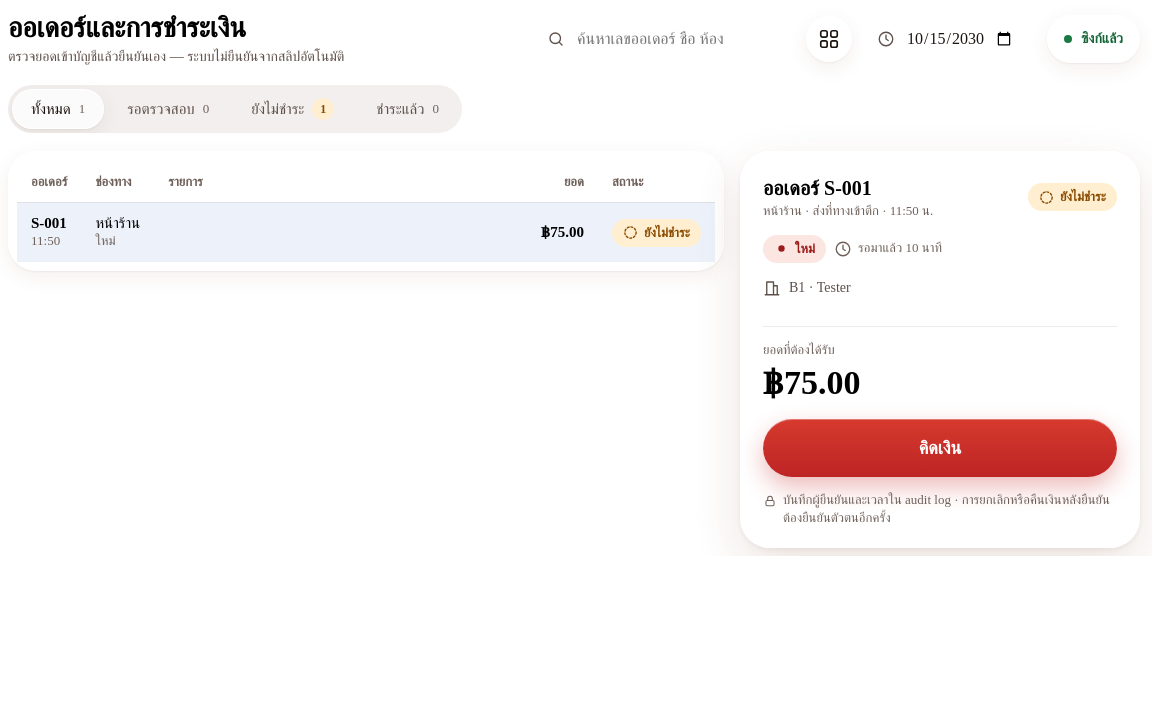
it: the orders table (iPad and laptop) › a group with no orders says so
Click the radio button labelled "ชำระแล้ว 0": (408, 109) x1=376 y1=101 x2=439 y2=117
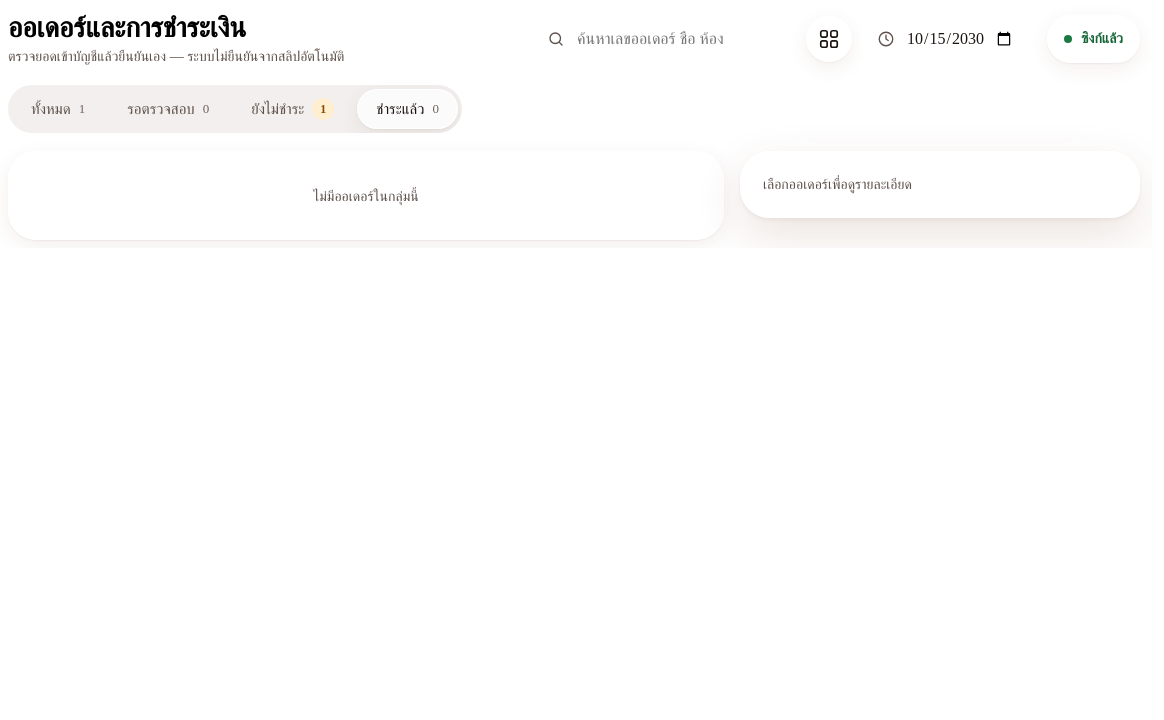
Result: the text "ไม่มีออเดอร์ในกลุ่มนี้" is shown at x1=313 y1=189 x2=419 y2=204
